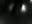person: (22, 3, 29, 15), (9, 5, 15, 13)
